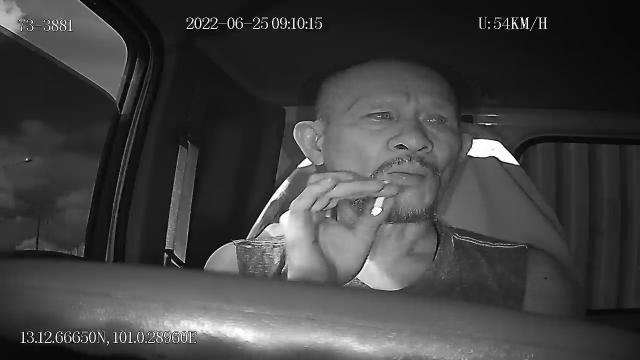SafeDriving: (413, 103, 458, 134), (356, 98, 402, 128)
Smoking: (370, 178, 388, 216)
